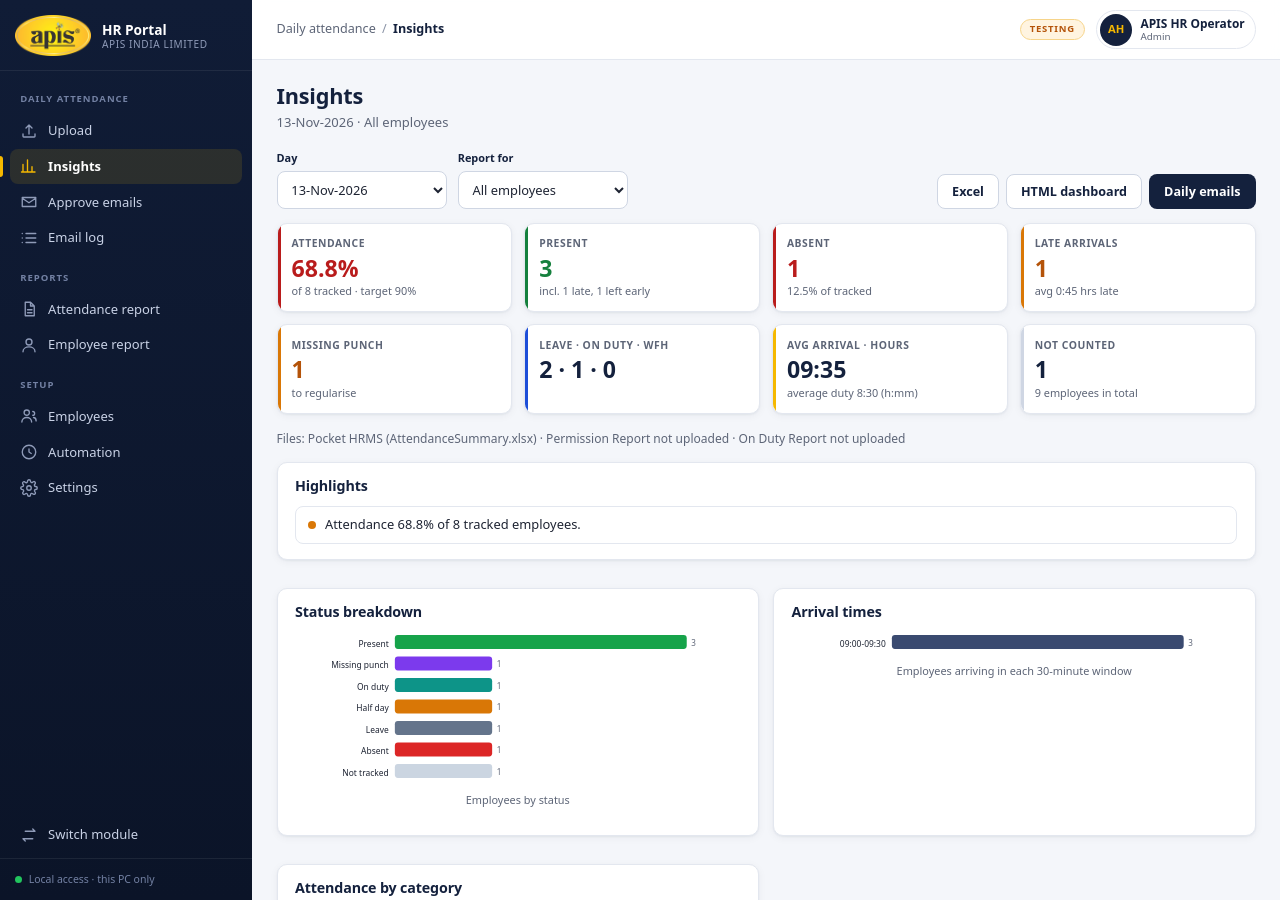
Test case: report selector switches to a category or an HOD's own people
This screenshot has width=1280, height=900.
expect the list item "Attendance 68.8% of 8 tracked employees." is shown: met, box [295, 506, 1237, 544]
Step 1. Select "Plant" in the dropdown labelled "Report for" → (543, 190), box [458, 171, 628, 209]
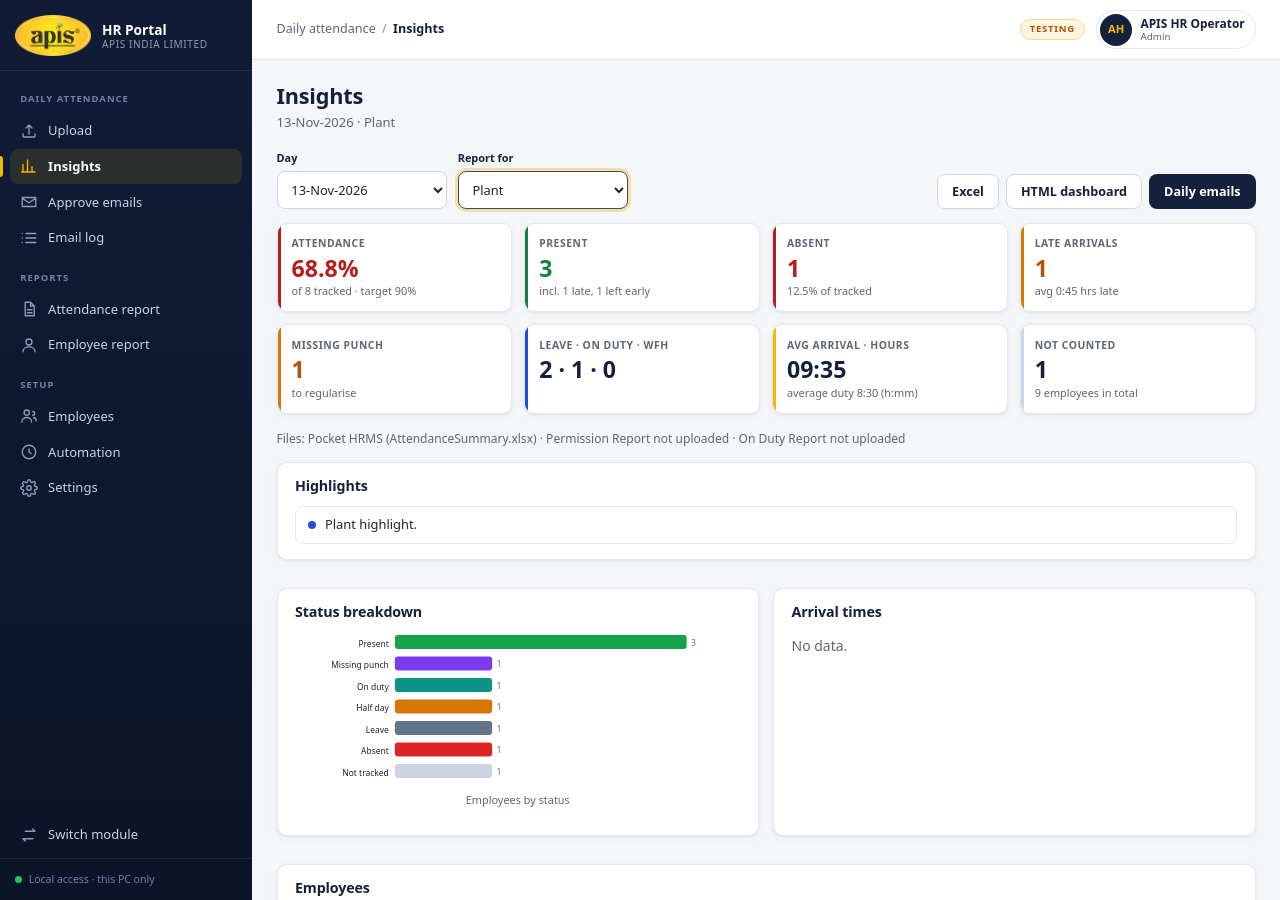
expect the list item "Plant highlight." is shown: met, box [295, 506, 1237, 544]
Step 2. Select "Ravi Kumar (2)" in the dropdown labelled "Report for" → (543, 190), box [458, 171, 628, 209]
(page scrolled)
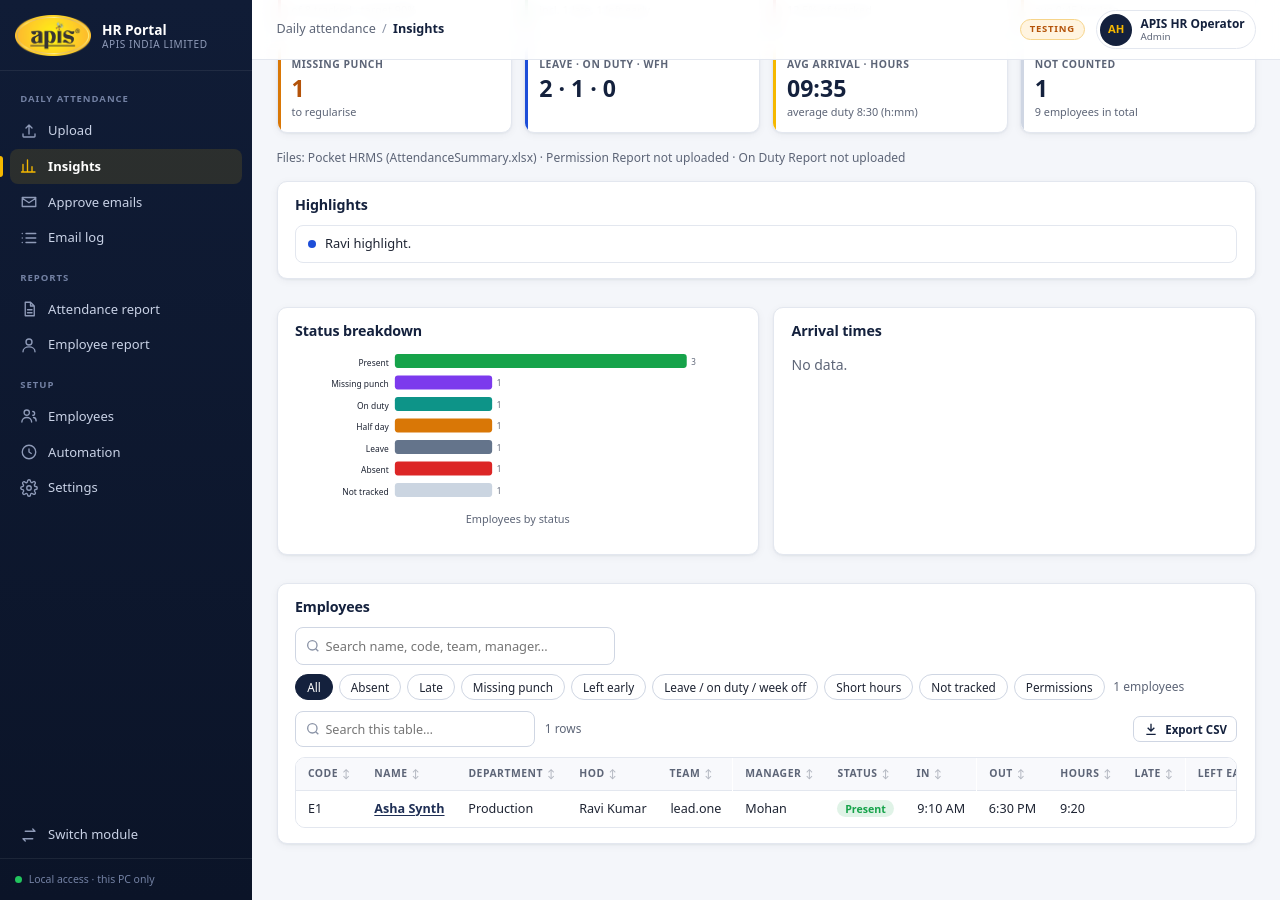
expect the link "Asha Synth" is shown: met, box [374, 800, 444, 817]
expect the list item "Ravi highlight." is shown: met, box [295, 225, 1237, 263]
